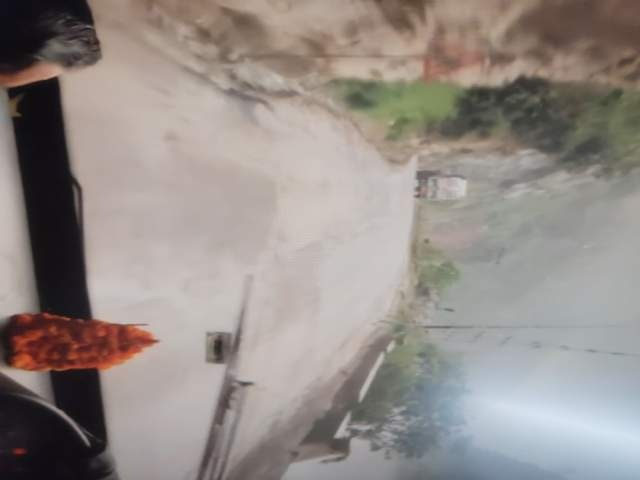pothole: (301, 311, 401, 391)
